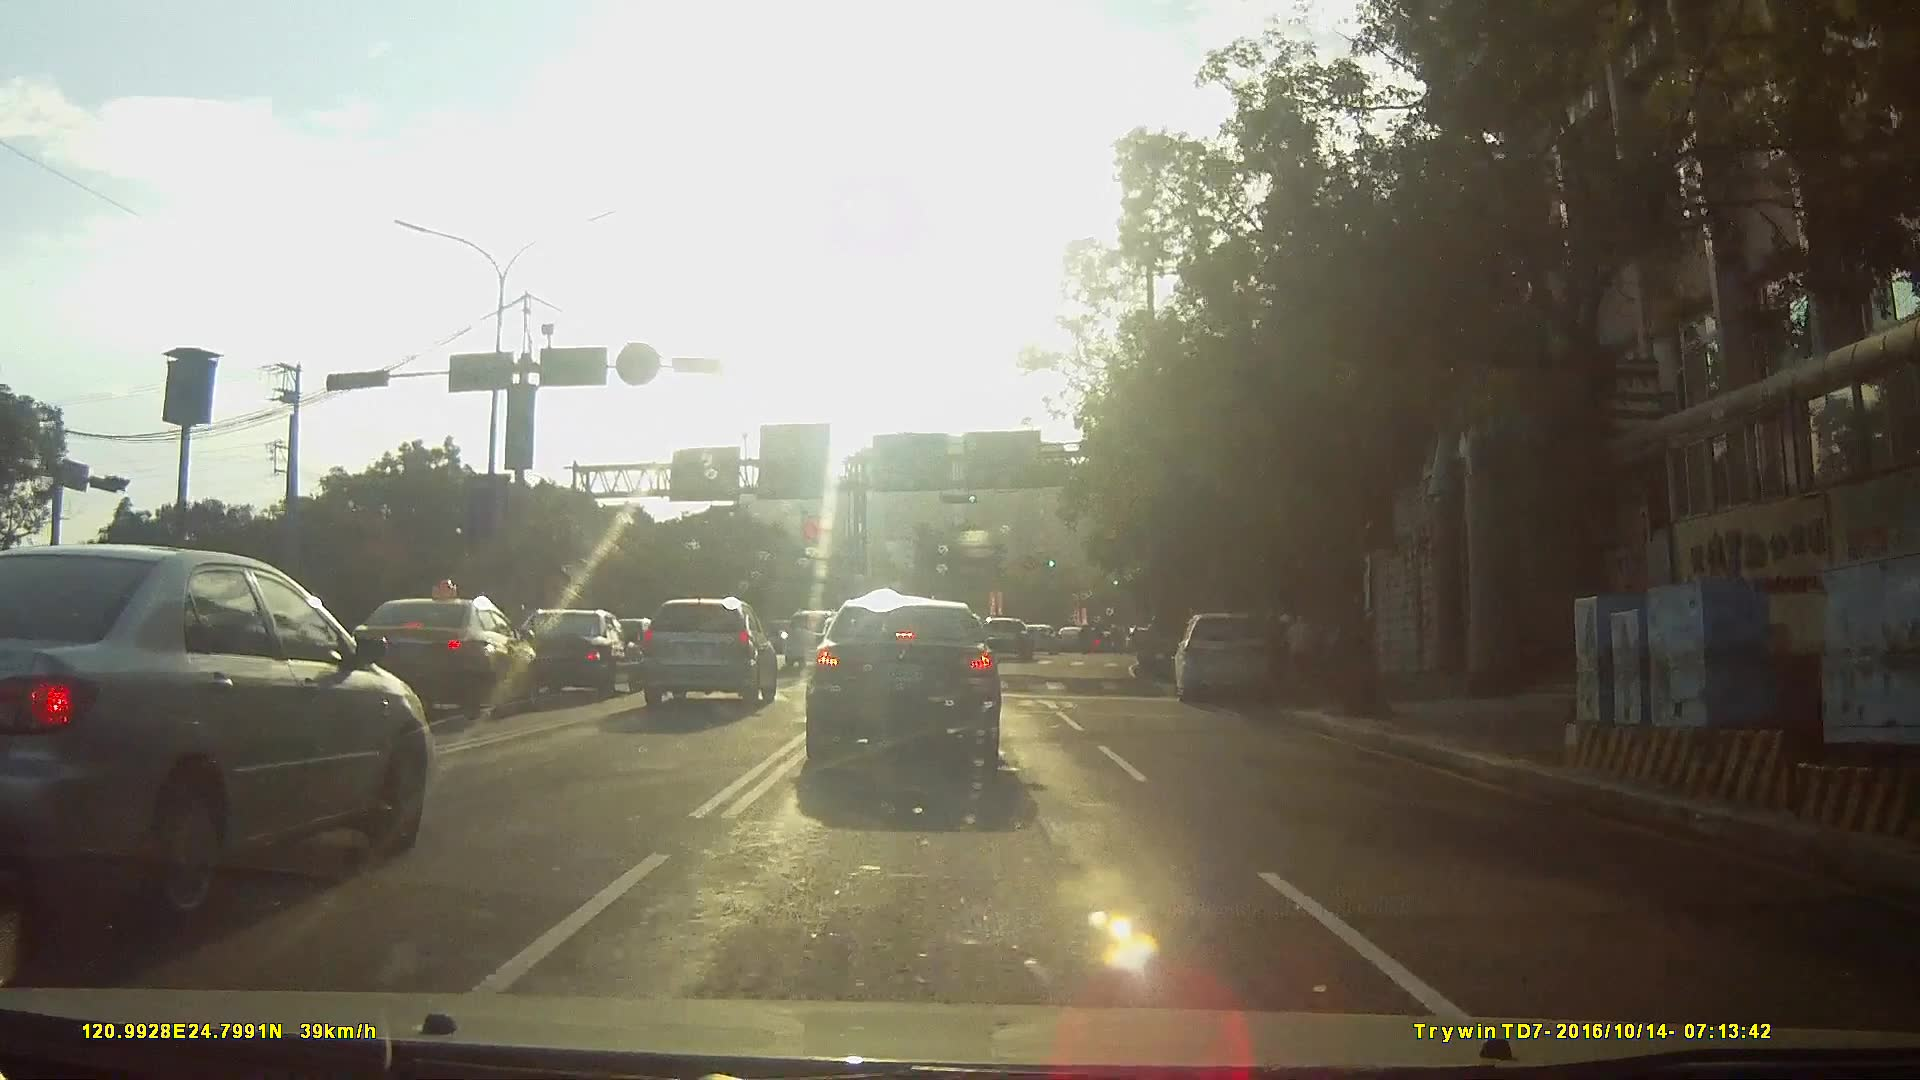pedestrian: (1281, 608, 1323, 676)
vehicle: (0, 533, 431, 923), (801, 595, 1019, 788), (318, 590, 523, 720), (636, 591, 778, 705), (489, 605, 631, 699), (1172, 602, 1297, 700), (784, 605, 847, 668), (980, 612, 1038, 658), (1026, 619, 1065, 651), (1055, 620, 1097, 648)
